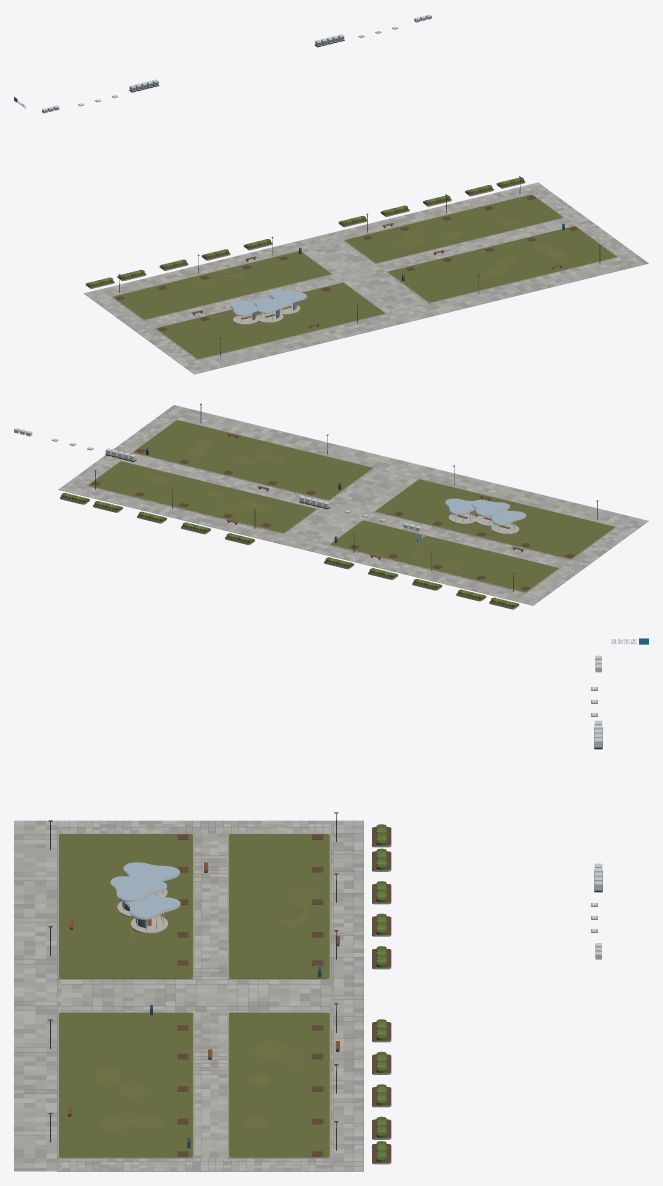
The model's file is campus-video-surroundings-v1.glb.
The picture shows the model from 3 angles, top to bottom: view 1: azimuth 30°, elevation 25°; view 2: azimuth 150°, elevation 25°; view 3: azimuth 270°, elevation 25°; orthographic projection. The views are drawn at different scales.
Visible parts, largest first — view 1: 石板步道、草坪与分隔矮绿篱, 三叶休憩亭、路灯、座椅与导视柱, 屋面检修口、补充设备与蓝色导视底板; view 2: 石板步道、草坪与分隔矮绿篱, 三叶休憩亭、路灯、座椅与导视柱, 屋面检修口、补充设备与蓝色导视底板; view 3: 石板步道、草坪与分隔矮绿篱, 三叶休憩亭、路灯、座椅与导视柱, 屋面检修口、补充设备与蓝色导视底板.
Part boxes in pixels (box(x1,y1,x2,y2)): 石板步道、草坪与分隔矮绿篱: box(84, 177, 648, 374); 三叶休憩亭、路灯、座椅与导视柱: box(118, 176, 600, 356); 屋面检修口、补充设备与蓝色导视底板: box(14, 14, 431, 113); 石板步道、草坪与分隔矮绿篱: box(58, 405, 648, 609); 三叶休憩亭、路灯、座椅与导视柱: box(94, 403, 598, 591); 屋面检修口、补充设备与蓝色导视底板: box(14, 428, 421, 541); 石板步道、草坪与分隔矮绿篱: box(14, 820, 391, 1171); 三叶休憩亭、路灯、座椅与导视柱: box(48, 812, 339, 1150); 屋面检修口、补充设备与蓝色导视底板: box(591, 638, 648, 959).
Size of the model in its own units: 86.3 by 22.78 by 66.07.
